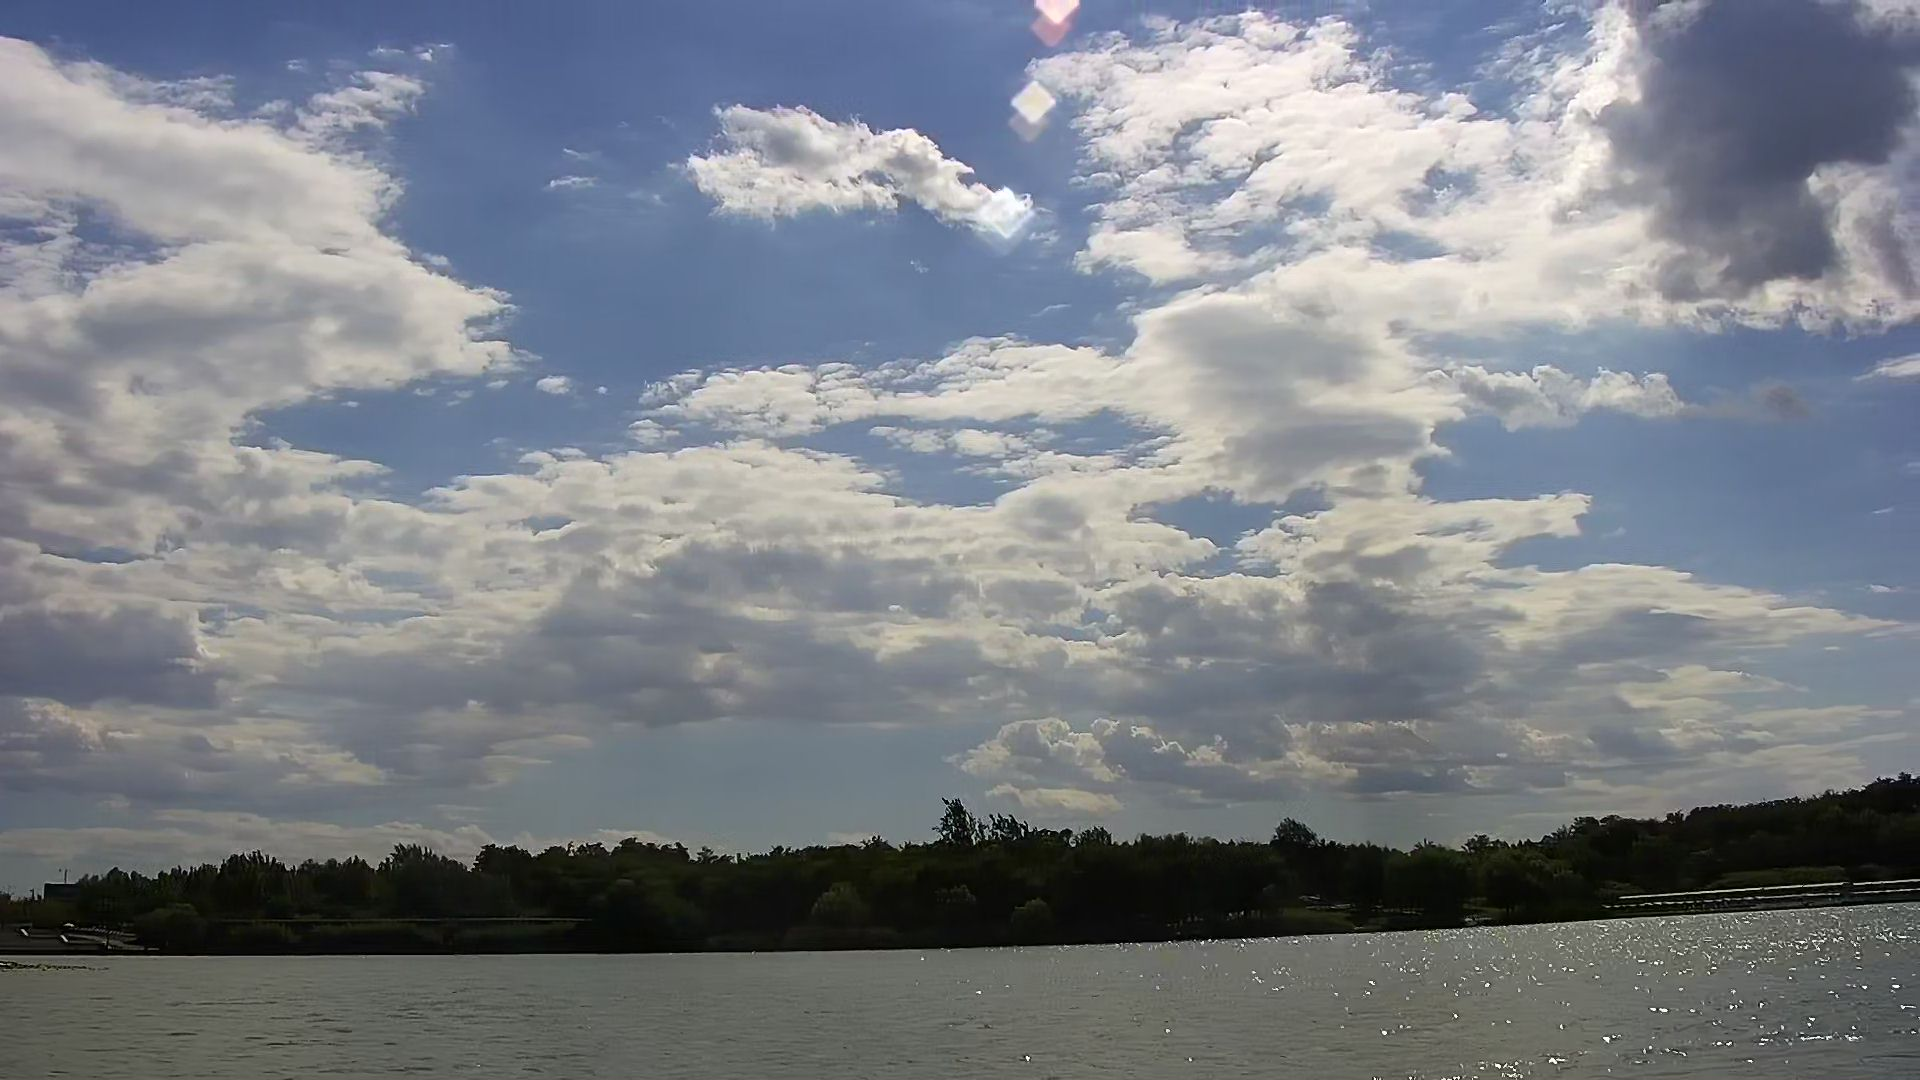harbor: (1582, 876, 1920, 928), (1, 916, 157, 965)
